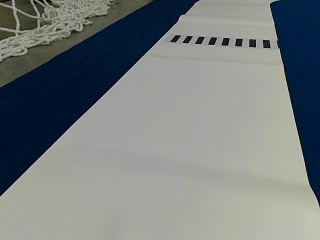crosswalk: (169, 34, 271, 49)
